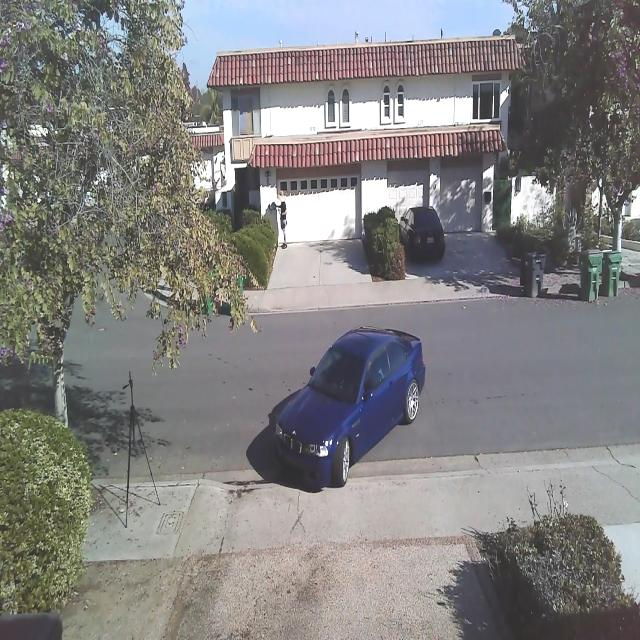Carbeetle: (255, 316, 439, 504)
Civilian: (399, 205, 445, 263)
